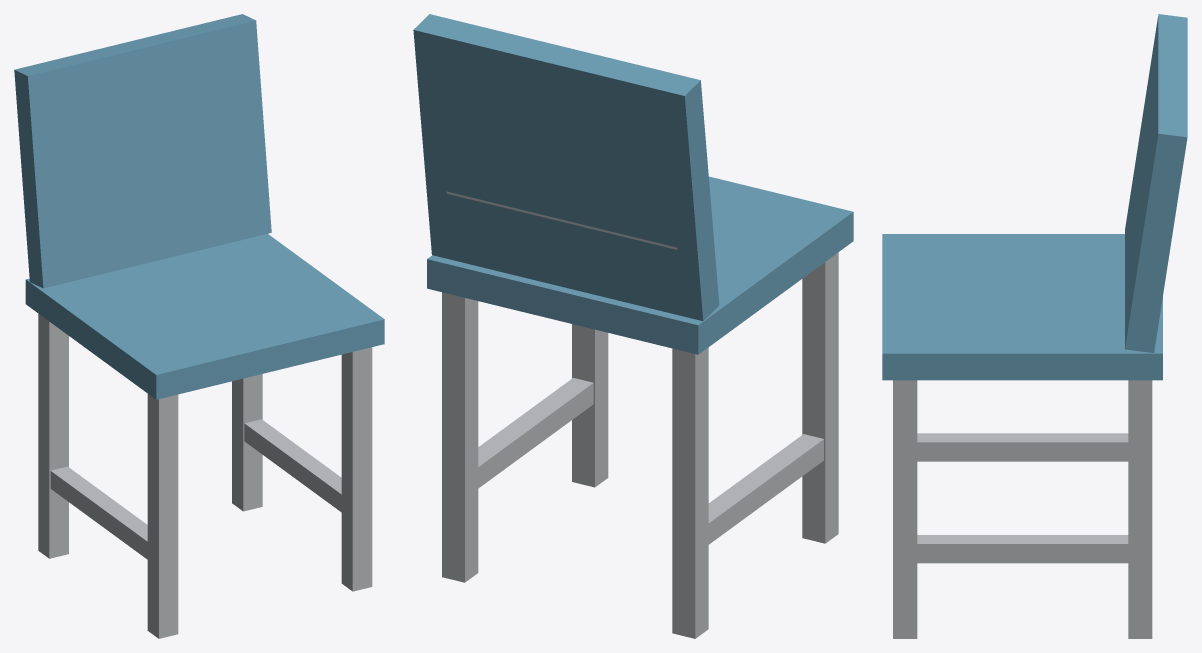
Rendered from canteen_chair.glb.
The picture shows the model from 3 angles, left to right: view 1: azimuth 30°, elevation 25°; view 2: azimuth 150°, elevation 25°; view 3: azimuth 270°, elevation 25°; orthographic projection. The views are drawn at different scales.
Parts seen in each view (by area): view 1: Canteen Chair; view 2: Canteen Chair; view 3: Canteen Chair.
Boxes of the visible parts, left/top/right/bottom form: Canteen Chair: left=14, top=14, right=384, bottom=638; Canteen Chair: left=413, top=14, right=853, bottom=638; Canteen Chair: left=882, top=14, right=1187, bottom=638.
Size of the model in its own units: 0.212 by 0.4207 by 0.2284.
